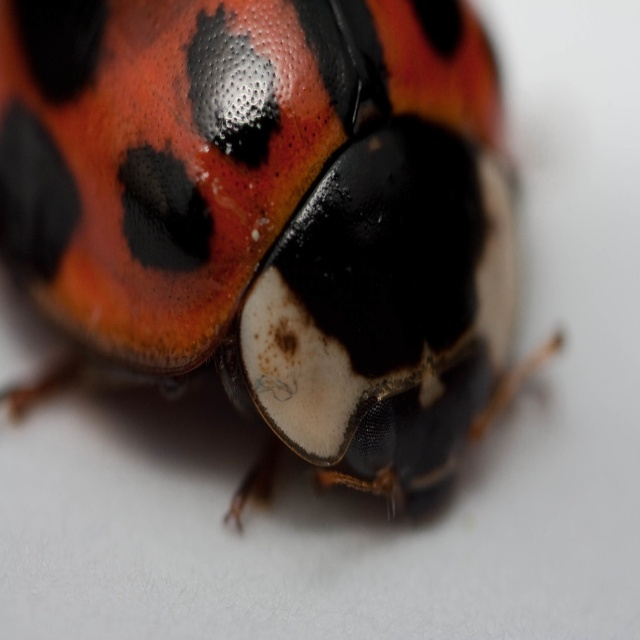Ladybug: (0, 0, 566, 533)
